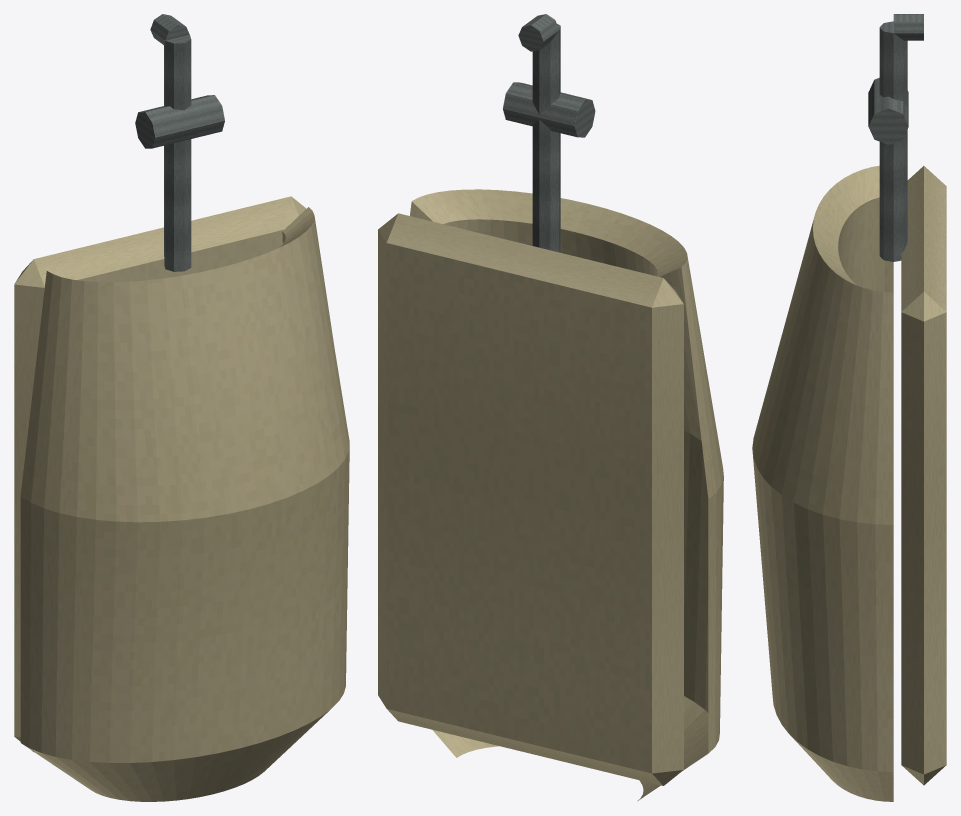
Rendered from level_school_urinal.glb.
3 renders of one model, left to right at view 1: azimuth 30°, elevation 25°; view 2: azimuth 150°, elevation 25°; view 3: azimuth 270°, elevation 25°, orthographic. The views are drawn at different scales.
Parts seen in each view (by area): view 1: level_school_urinal; view 2: level_school_urinal; view 3: level_school_urinal.
Part boxes in pixels (box(x1,y1,x2,y2)): level_school_urinal: box(14, 14, 349, 801); level_school_urinal: box(378, 14, 723, 801); level_school_urinal: box(752, 14, 946, 801).
Bounding box in the file's own units: 0.36 × 0.814 × 0.1925.
Materials: 2 (2 with a texture image).
